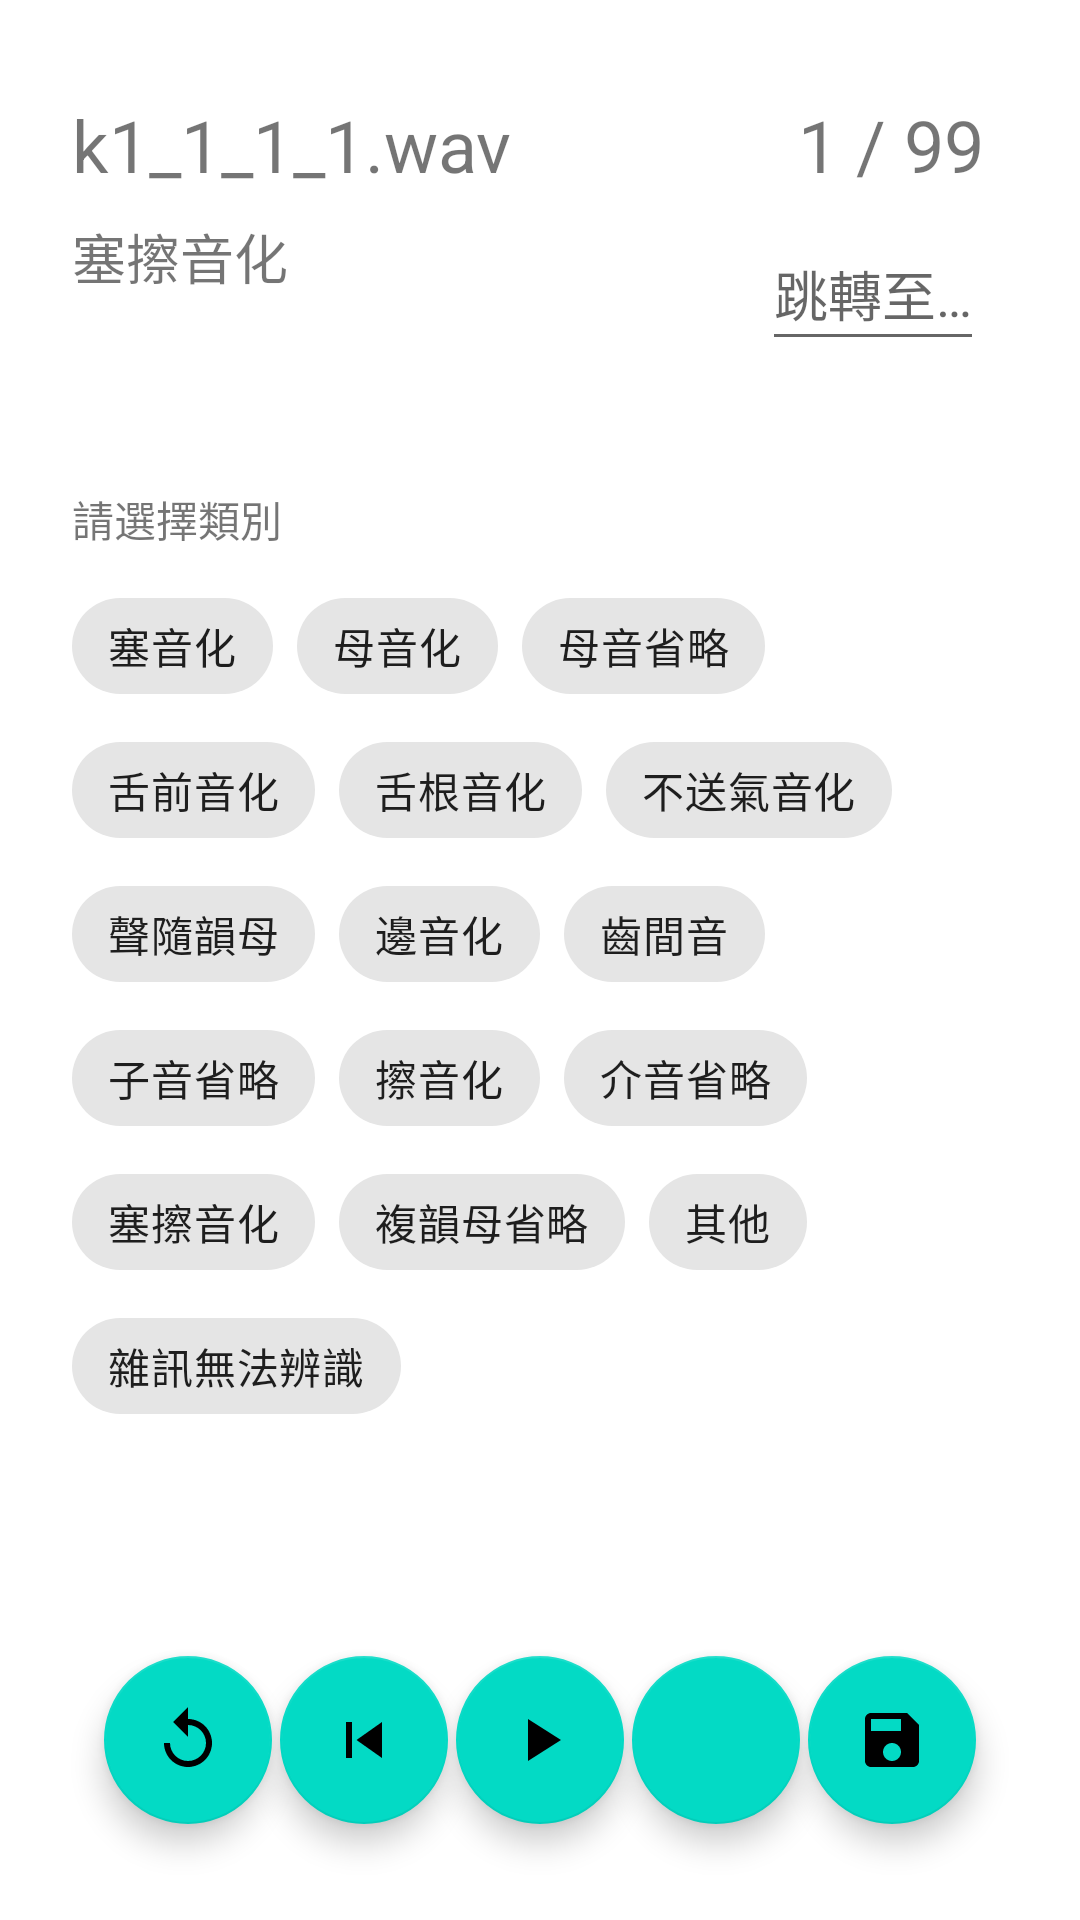

Locate icon controls on the screen. Image size 1080 × 1920, boxes as (x1, y1, x2, y2).
play arrow: (456, 1656, 624, 1824)
replay: (104, 1656, 272, 1824)
save: (808, 1656, 976, 1824)
skip previous: (280, 1656, 448, 1824)
